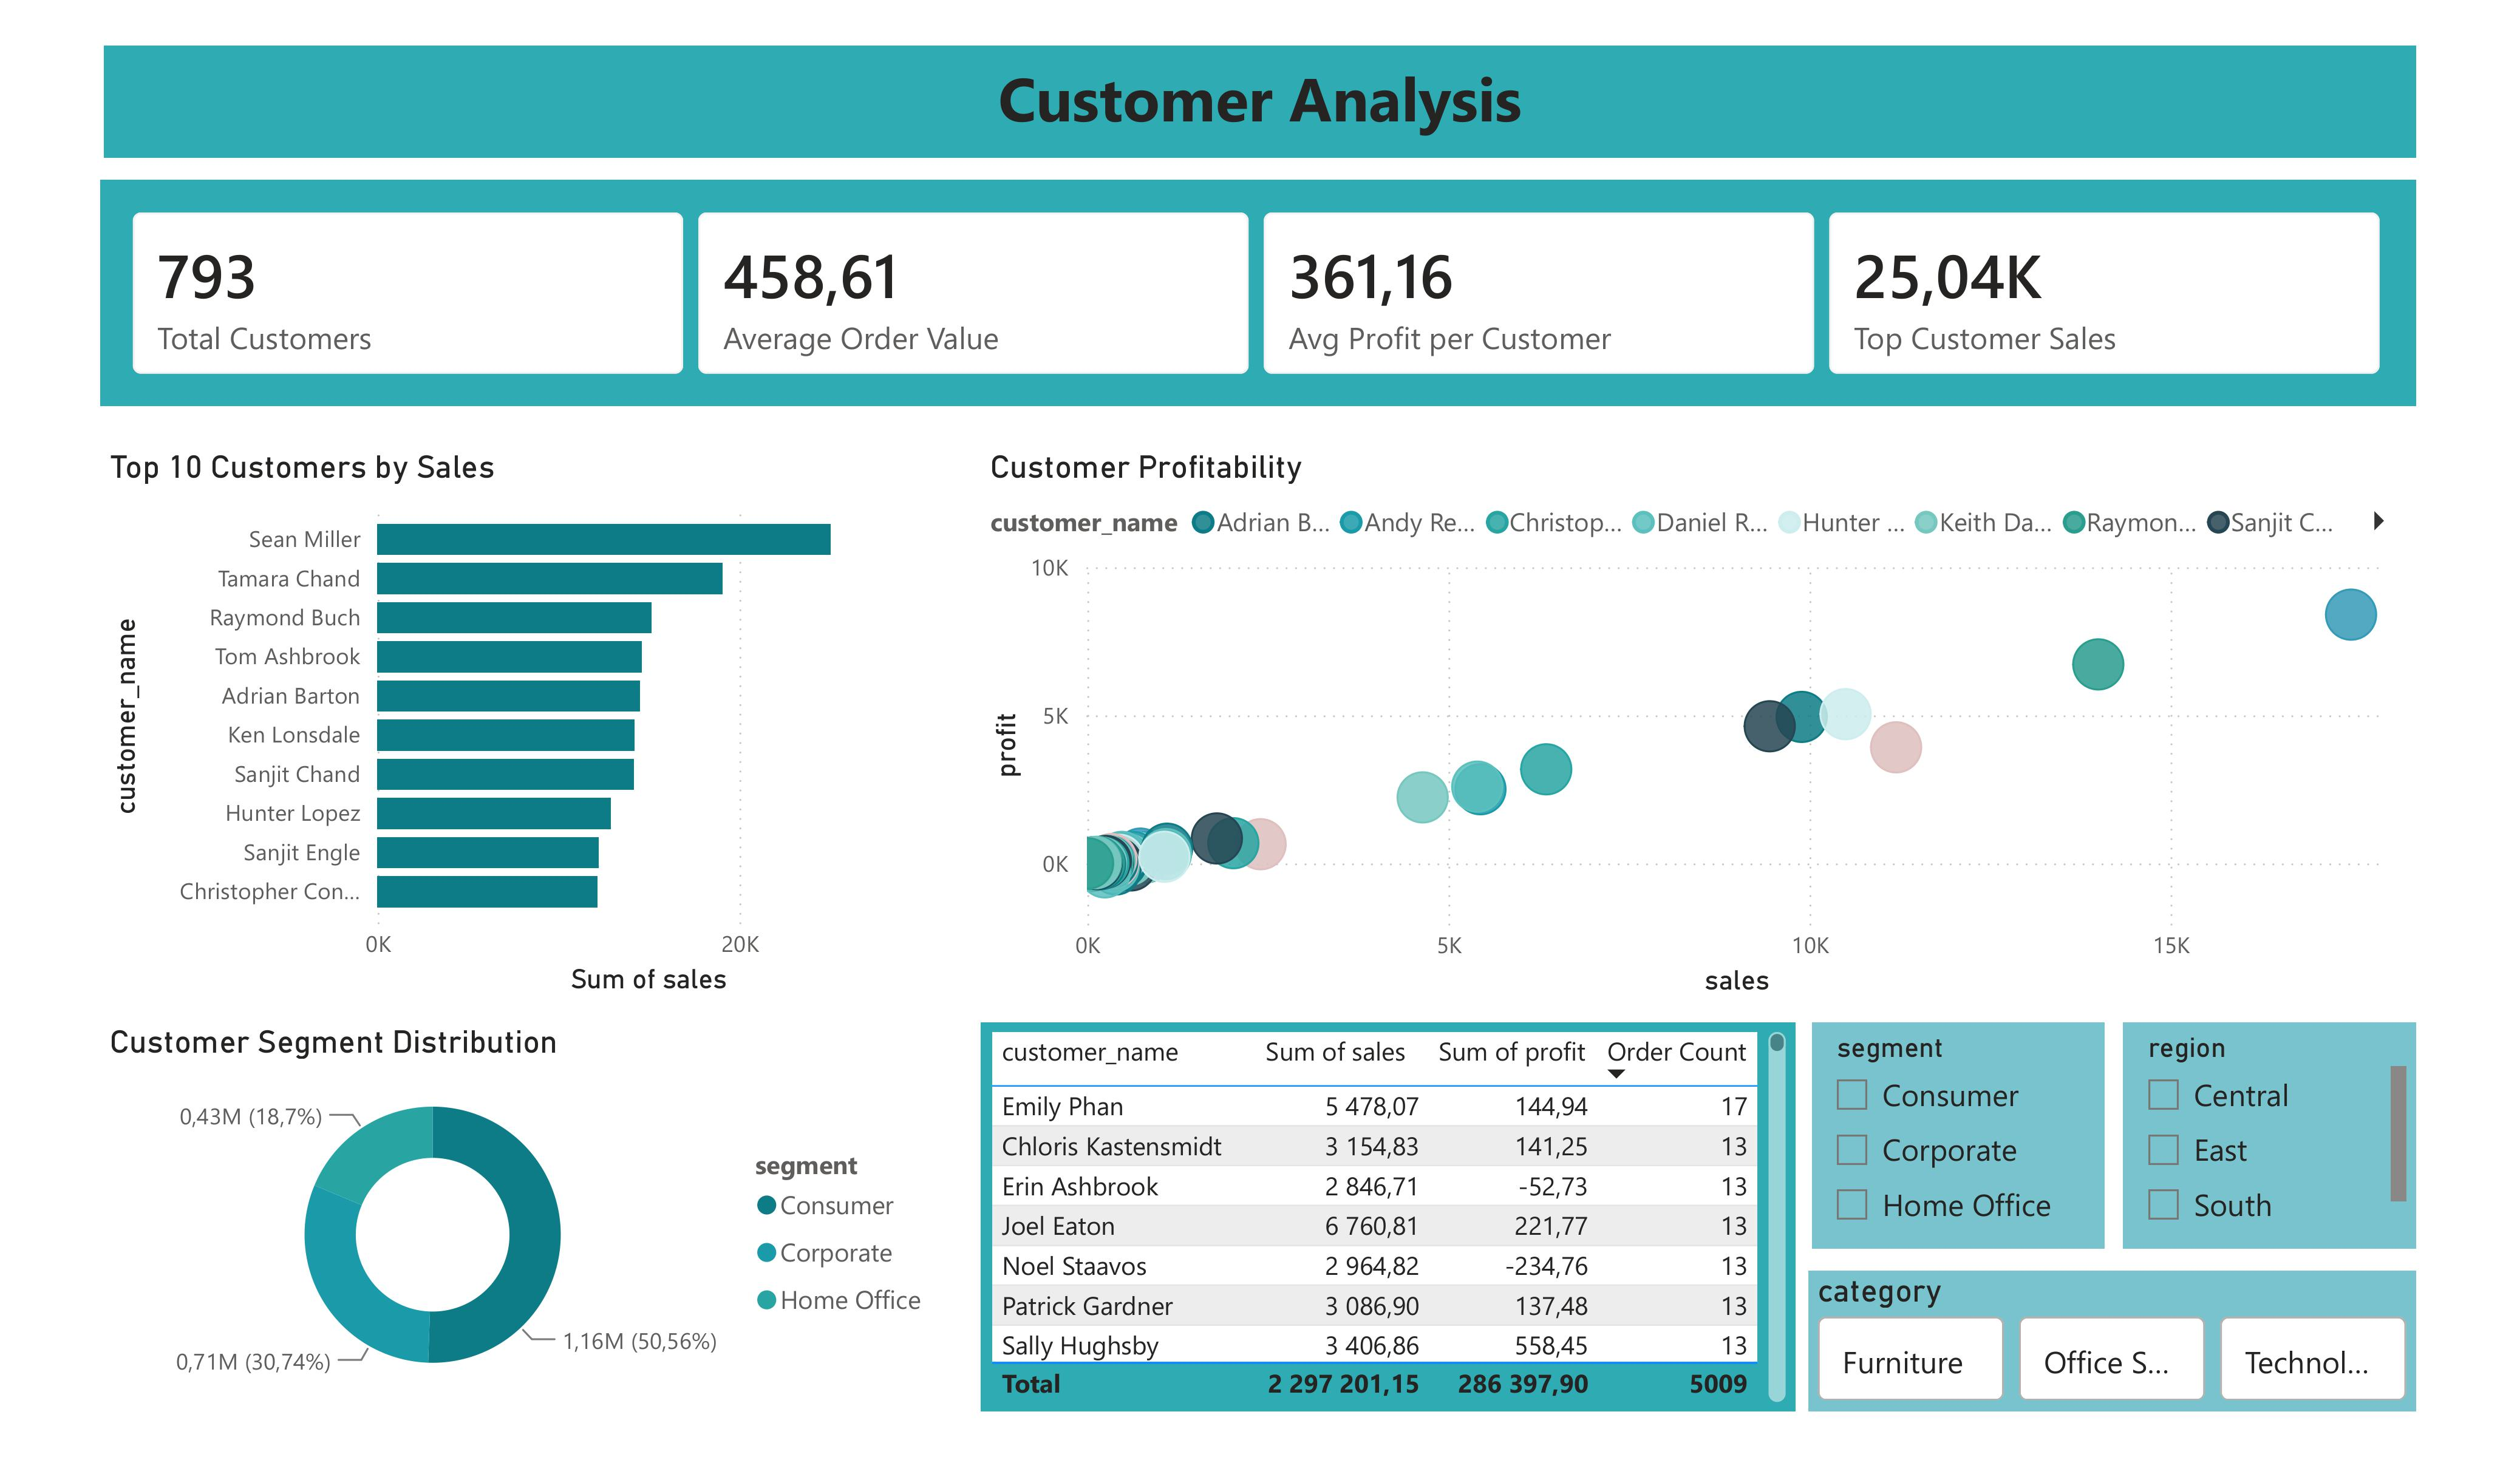

The dashboard page shown, as its layout file describes it:
{"tool":"powerbi","page":{"name":"Customer Analysis","canvas":[1280,720],"ordinal":2},"visuals":[{"type":"textbox","box":[30.5,0,1218.6,59.3],"z":0},{"type":"cardVisual","fields":{"Data":["superstore_clean.Total Customers","superstore_clean.Average Order Value","Product Summary.Avg Profit per Customer","Product Summary.Top Customer Sales"]},"box":[28.8,71.2,1220.3,118.6],"z":1000},{"type":"barChart","title":"Top 10 Customers by Sales","fields":{"Category":["superstore_clean.customer_name"],"Y":["Sum(superstore_clean.sales)"]},"box":[28.8,211.9,447.5,293.2],"z":2000},{"type":"donutChart","title":"Customer Segment Distribution","fields":{"Category":["superstore_clean.segment"],"Y":["Sum(superstore_clean.sales)"]},"box":[28.8,515.3,447.5,205.1],"z":3000},{"type":"scatterChart","title":"Customer Profitability","fields":{"X":["superstore_clean.sales"],"Y":["superstore_clean.profit"],"Series":["superstore_clean.customer_name"],"Size":["CountNonNull(superstore_clean.order_id)"]},"box":[493.2,211.9,755.9,293.2],"z":4000},{"type":"tableEx","fields":{"Values":["superstore_clean.customer_name","Sum(superstore_clean.sales)","Sum(superstore_clean.profit)","superstore_clean.Order Count"]},"box":[493.2,515.3,428.8,205.1],"z":5000},{"type":"slicer","fields":{"Values":["superstore_clean.segment"]},"box":[930.5,515.3,154.2,118.6],"z":6000},{"type":"slicer","fields":{"Values":["superstore_clean.region"]},"box":[1094.9,515.3,154.2,118.6],"z":7000},{"type":"advancedSlicerVisual","fields":{"Values":["superstore_clean.category"]},"box":[928.8,645.8,320.3,74.6],"z":8000}]}

Visuals, with their boxes on the page's 1280x720 design canvas (x1, y1, x2, y2). These are canvas units, not pixel positions in the 2520x1457 screenshot, which may show the page scaled, cropped or inside an application window:
textbox: <box>30,0,1249,59</box>
cardVisual - superstore_clean.Total Customers x superstore_clean.Average Order Value: <box>29,71,1249,190</box>
"Top 10 Customers by Sales" barChart: <box>29,212,476,505</box>
"Customer Segment Distribution" donutChart: <box>29,515,476,720</box>
"Customer Profitability" scatterChart: <box>493,212,1249,505</box>
tableEx - superstore_clean.customer_name x Sum(superstore_clean.sales): <box>493,515,922,720</box>
slicer - superstore_clean.segment: <box>930,515,1085,634</box>
slicer - superstore_clean.region: <box>1095,515,1249,634</box>
advancedSlicerVisual - superstore_clean.category: <box>929,646,1249,720</box>
